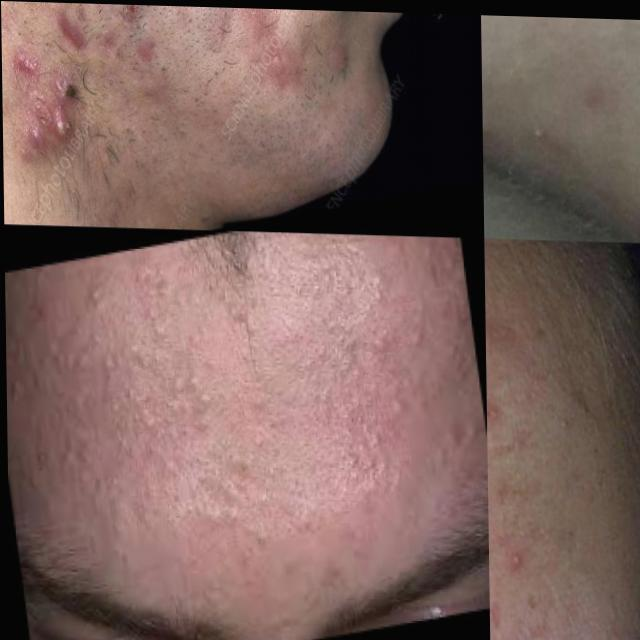9: (487, 522, 559, 606)
blackheads: (54, 1, 87, 61)
dark spot: (12, 38, 45, 87)
pustules: (27, 75, 107, 183)
